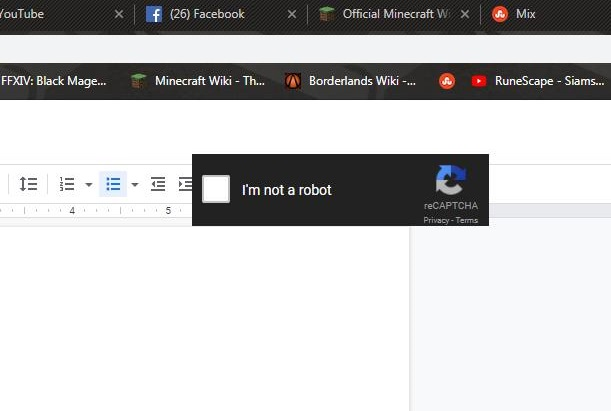captcha: (202, 174, 338, 203)
